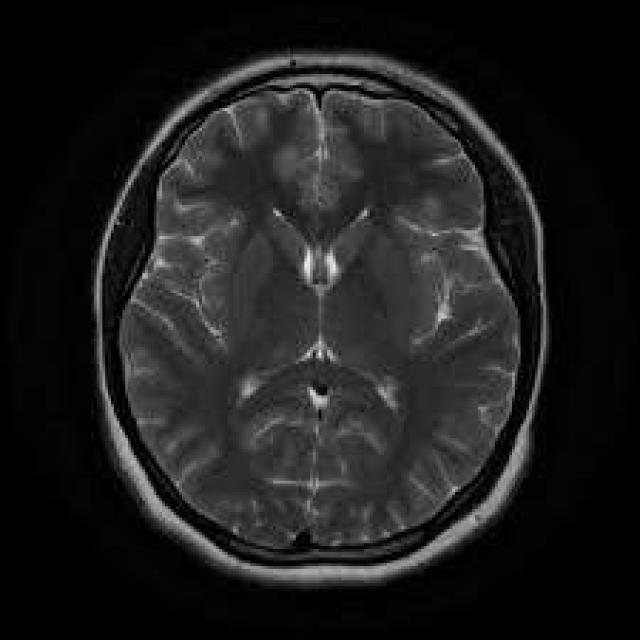notumor: (94, 51, 552, 594)
